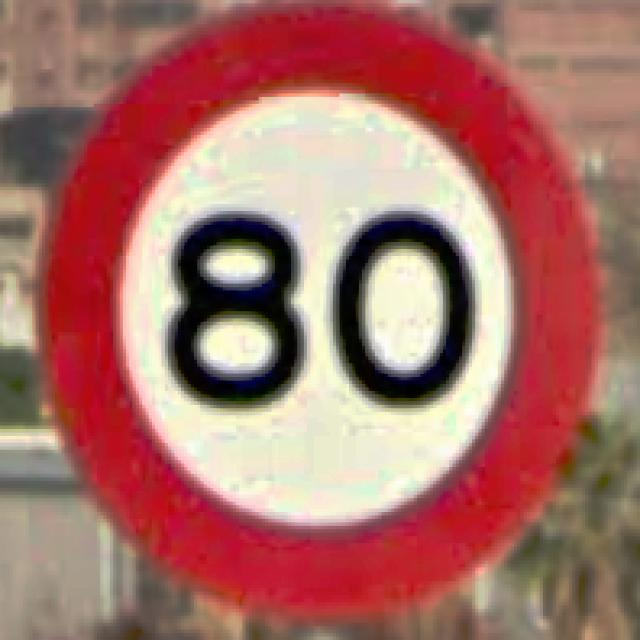max80: (32, 0, 604, 623)
